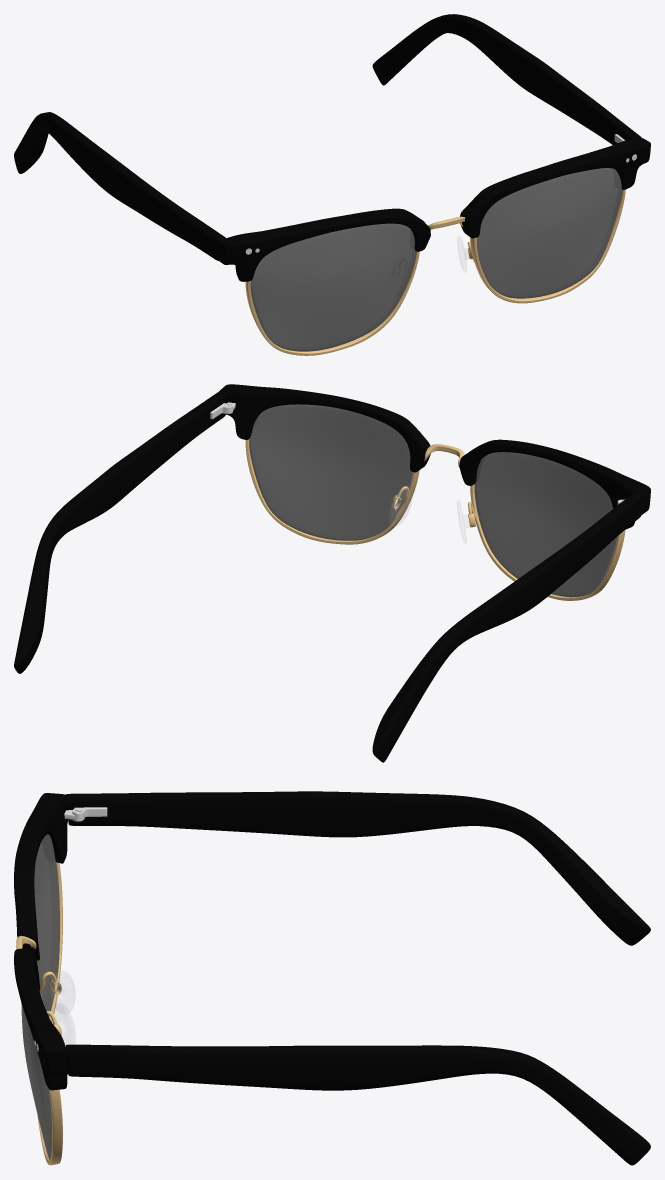
The model's file is baird-sun-sbf-jet-black-with-polished-gold_wide.glb.
The picture shows the model from 3 angles, top to bottom: view 1: azimuth 30°, elevation 25°; view 2: azimuth 150°, elevation 25°; view 3: azimuth 270°, elevation 25°; orthographic projection. The views are drawn at different scales.
Visible parts, largest first — view 1: lenses, face_front_top, left_temple, right_temple, face_front; view 2: lenses, right_temple, left_temple, face_front_top, face_front, NosePads; view 3: right_temple, left_temple, face_front_top, lenses, face_front, NosePads.
Boxes of the visible parts, x1,y1,x2,y2 form: lenses: (250,168,622,351); face_front_top: (217,138,650,281); left_temple: (372,14,641,144); right_temple: (14,112,225,260); face_front: (245,189,625,355); lenses: (249,404,616,597); right_temple: (372,492,642,762); left_temple: (14,391,227,673); face_front_top: (219,384,650,529); face_front: (245,439,625,600); NosePads: (389,488,469,542); right_temple: (65,791,650,945); left_temple: (65,1044,650,1165); face_front_top: (14,793,67,1090); lenses: (21,834,59,1159); face_front: (37,862,62,1165); NosePads: (51,971,74,1044).
Size of the model in its own units: 0.144 by 0.0439 by 0.1482.
